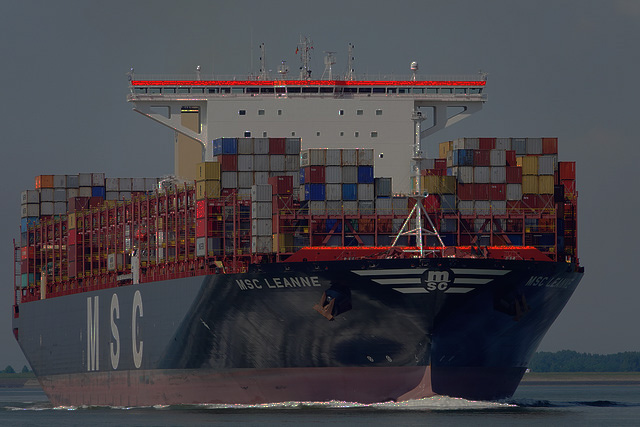container_ship: (10, 34, 582, 407)
